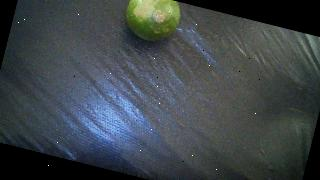DESECHO: (120, 0, 183, 47)
